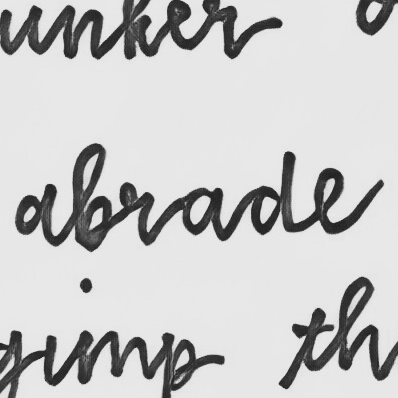a: (12, 182, 59, 243), (180, 184, 227, 240)
b: (70, 141, 114, 254)
d: (248, 148, 298, 237)
e: (311, 166, 359, 236)
r: (117, 179, 159, 247)
